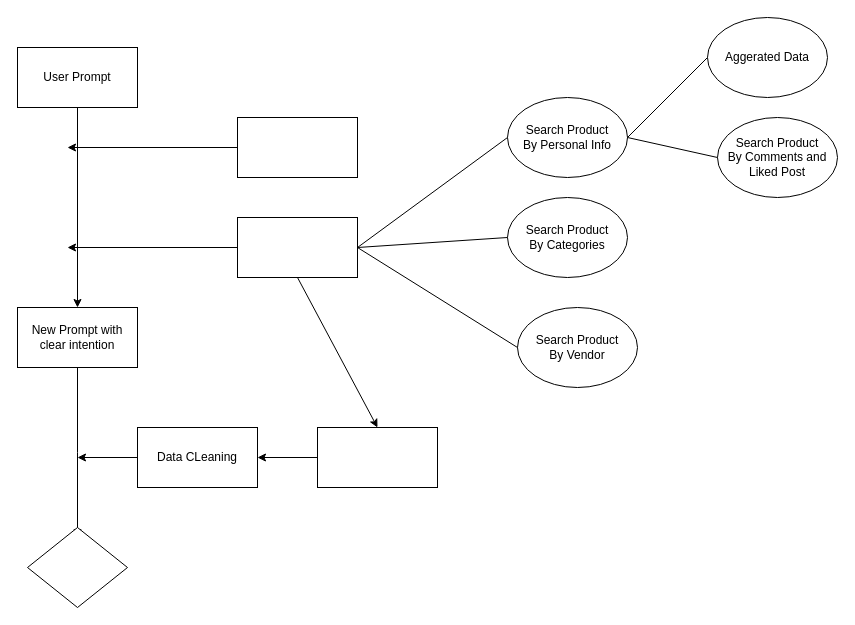
Image size: 855x625. Some labels were removed from this diagram. The centre of each missing label's shape, as x and y in pixels:
Answer: point 77,567
Chat History: point 297,147
Intent Classifier: point 297,247
Query From Service: point 377,457
